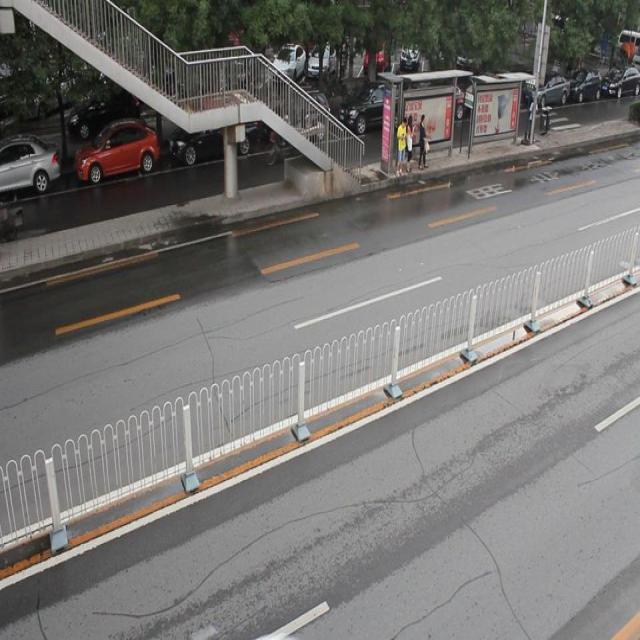car: (169, 96, 258, 162), (74, 118, 160, 184), (264, 90, 330, 147), (343, 79, 409, 134), (1, 136, 60, 197)
